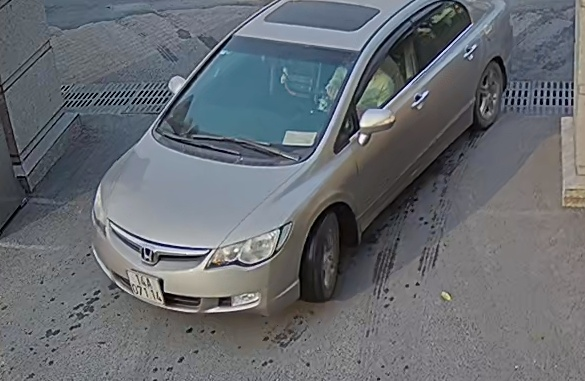vehicle plate: (124, 264, 171, 309)
